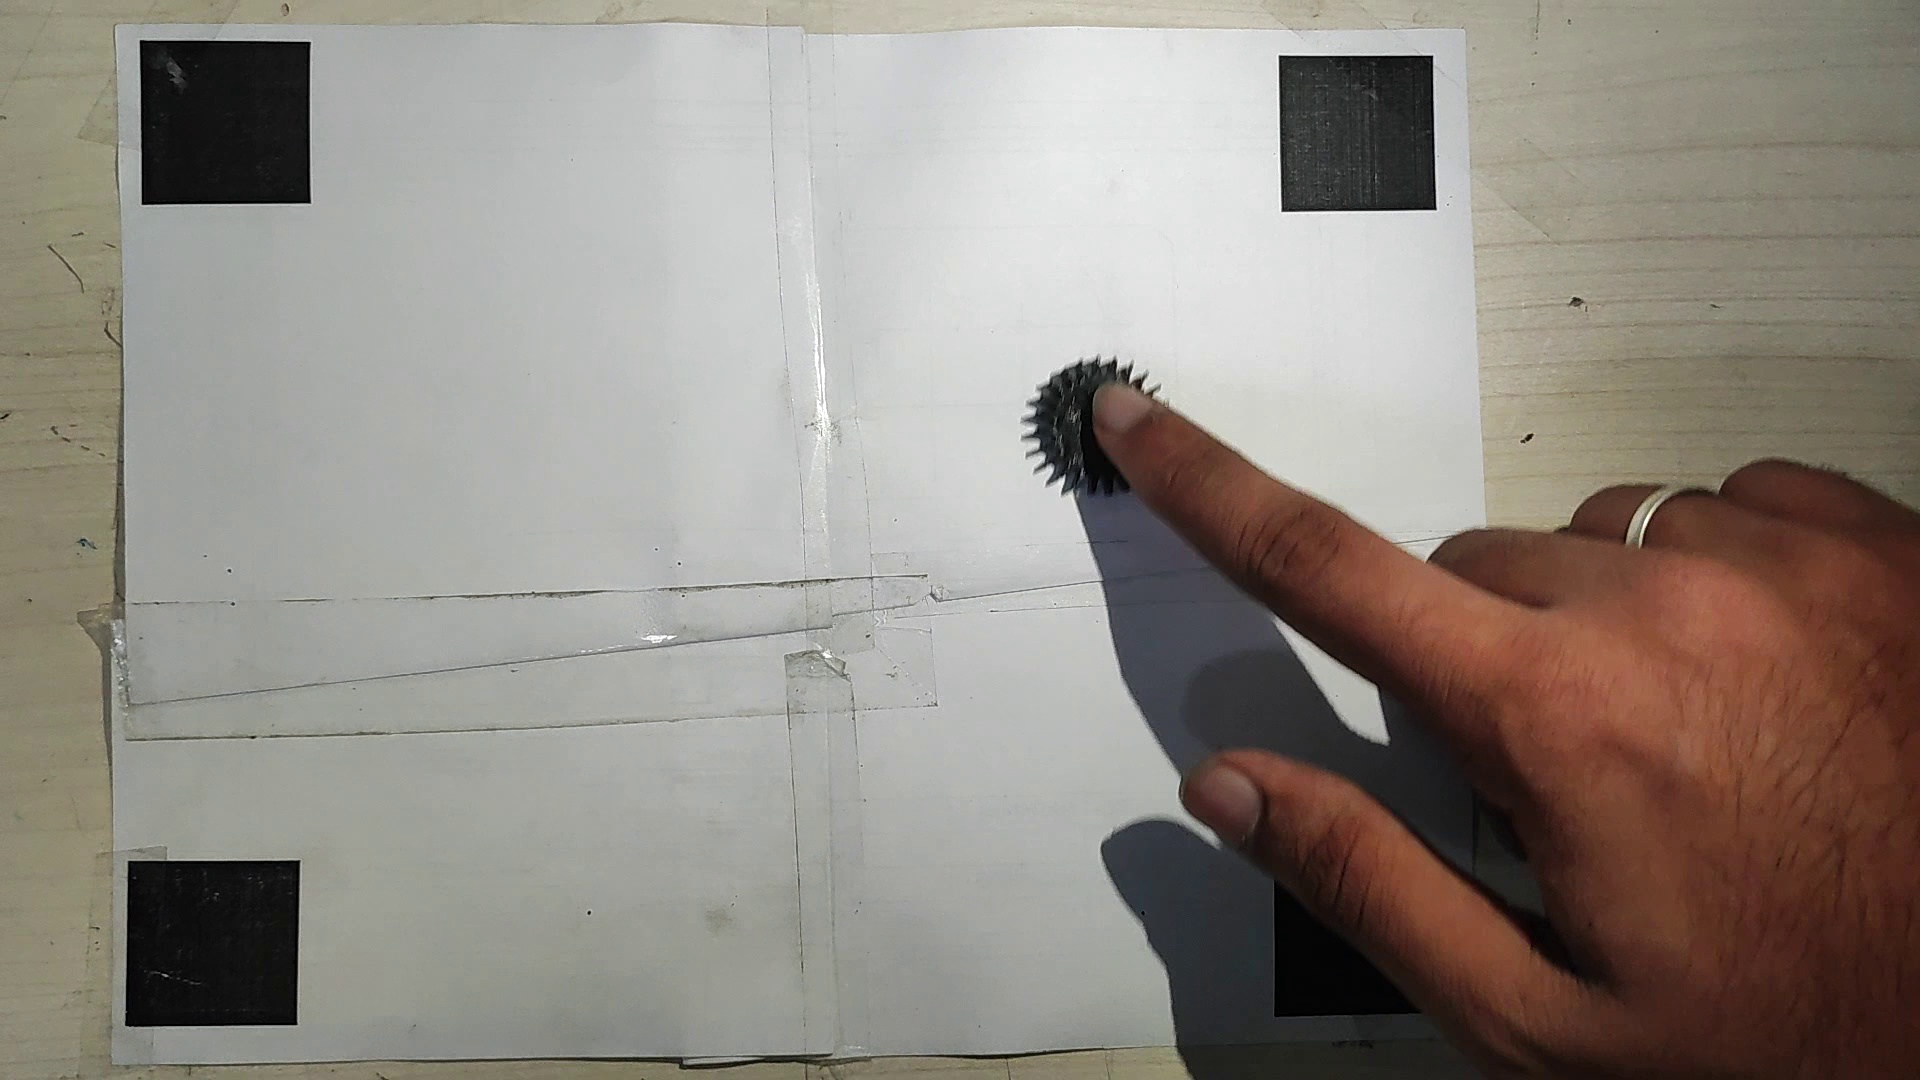Gear: (1022, 345, 1178, 504)
